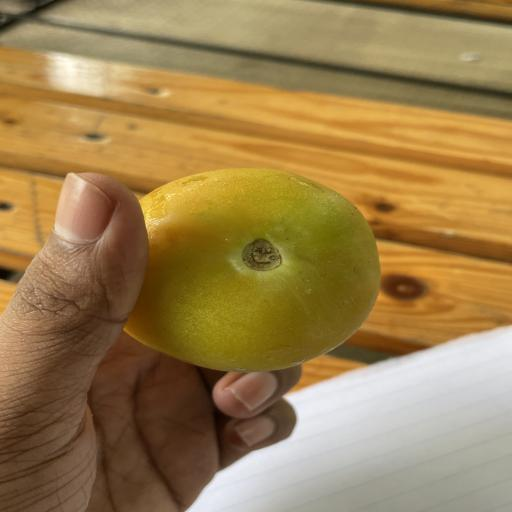unripe: (126, 169, 380, 372)
